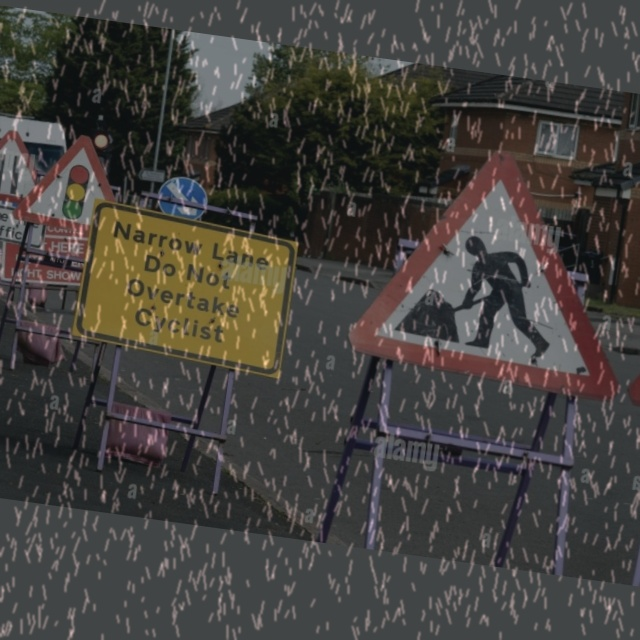Men_at_Work: (344, 118, 639, 405)
